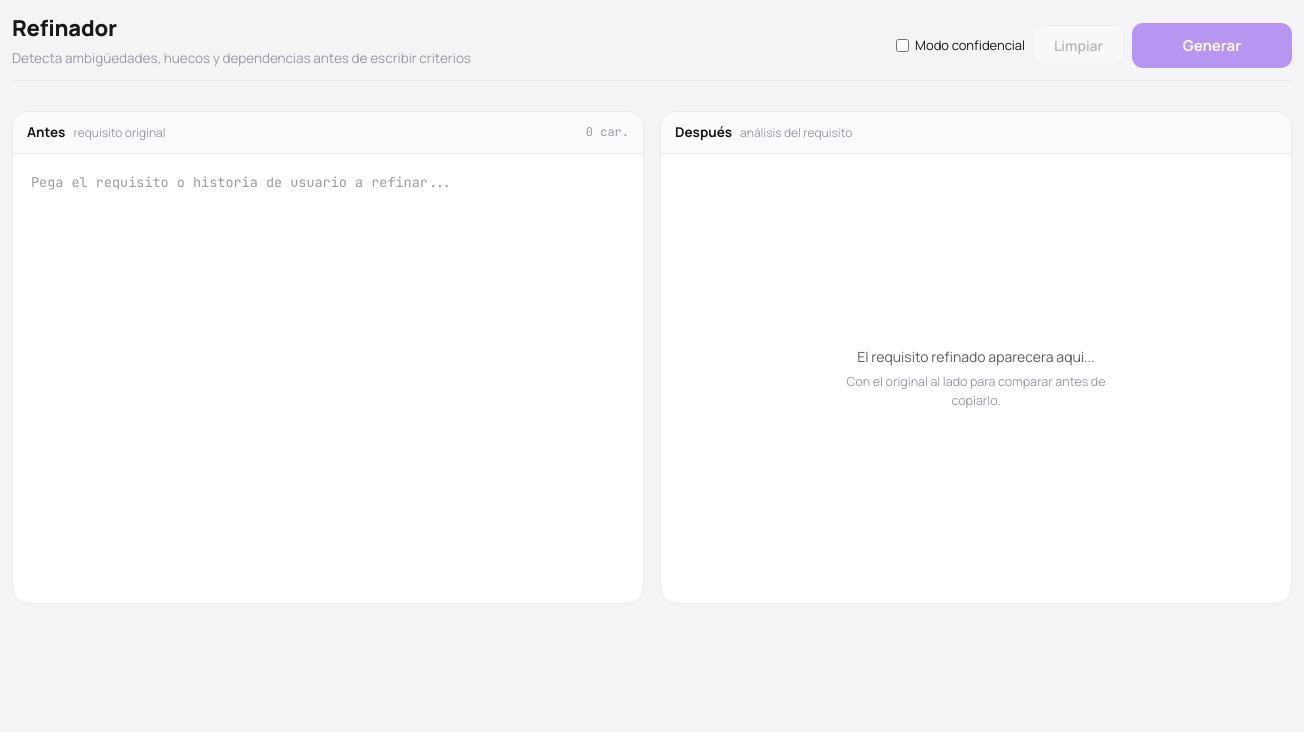
it: RefinerTool — panel antes/despues › cuenta los caracteres del requisito original
The image size is (1304, 732).
expect the text "0 car." is shown: met, box [586,123,629,141]
Type "hola" into the text box at (328, 378), box [17,158,639,599]
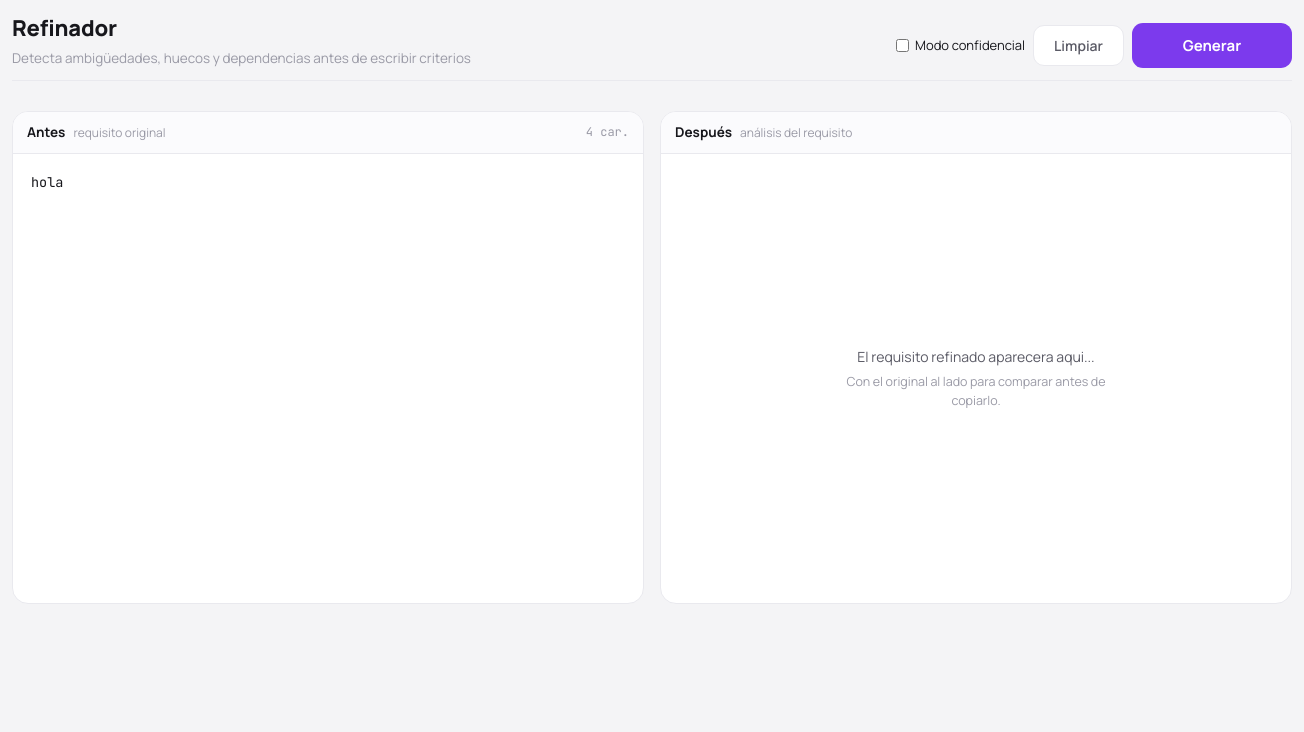
expect the text "4 car." is shown: met, box [586,123,629,141]
